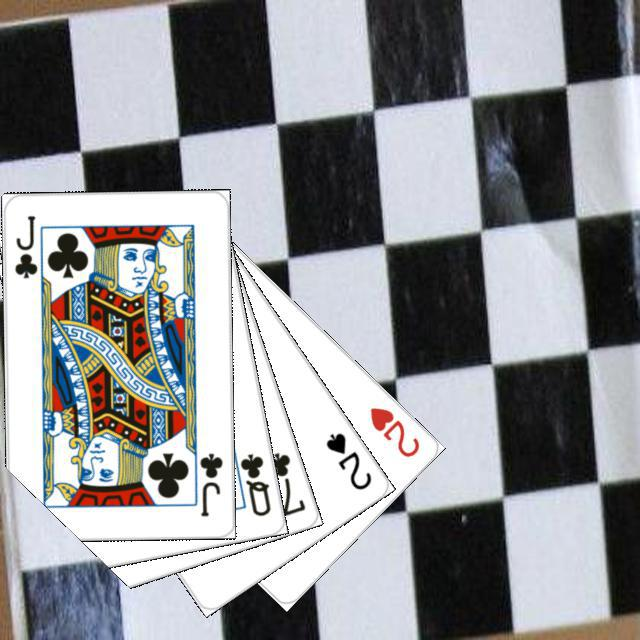2h: (365, 402, 422, 460)
2s: (320, 427, 374, 492)
7c: (263, 447, 308, 518)
Jc: (9, 210, 40, 280), (195, 448, 225, 518)
Qc: (228, 445, 273, 518)
